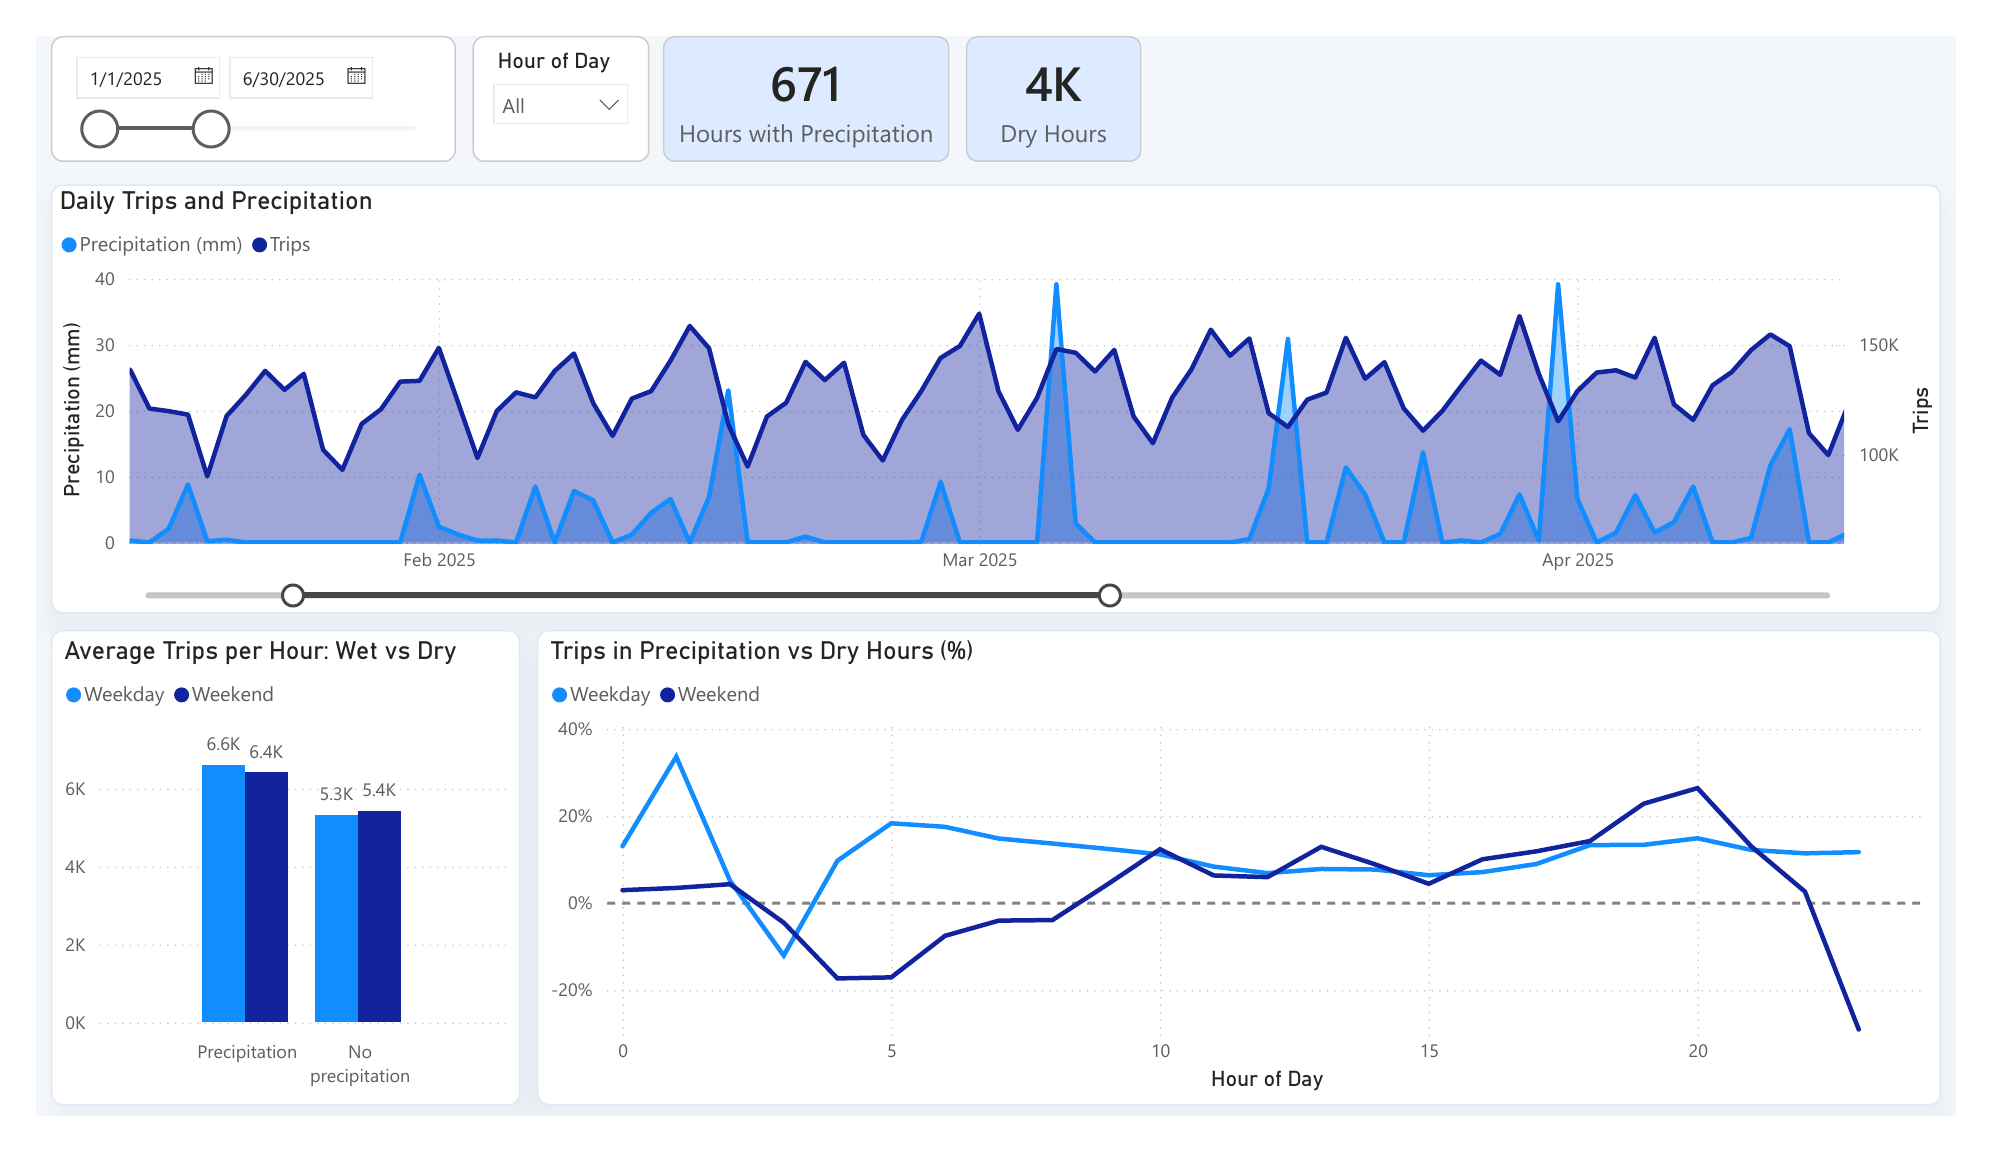

The page's visual inventory and layout, read from the dashboard file:
{"tool":"powerbi","page":{"name":"Weather & Demand","canvas":[1280,720],"ordinal":2},"visuals":[{"type":"slicer","fields":{"Values":["mart_taxi_weather_hourly.analysis_date"]},"box":[10.2,0,270.3,84.1],"z":0},{"type":"areaChart","title":"Daily Trips and Precipitation","fields":{"Category":["mart_taxi_weather_hourly.analysis_date"],"Y":["Sum(mart_taxi_weather_hourly.precipitation)"],"Y2":["Sum(mart_taxi_weather_hourly.total_trip_records)"]},"box":[10.2,99.4,1259.6,285.6],"z":1000},{"type":"slicer","fields":{"Values":["mart_taxi_weather_hourly.hour_of_day"]},"box":[290.7,0,118.6,84.1],"z":2000},{"type":"clusteredColumnChart","title":"Average Trips per Hour: Wet vs Dry","fields":{"Category":["mart_taxi_weather_hourly.Precipitation Status"],"Series":["mart_taxi_weather_hourly.Day Type"],"Y":["mart_taxi_routes_hourly.Avg Trips per Hour"]},"box":[10.2,396.5,312.4,316.2],"z":3000},{"type":"lineChart","title":"Trips in Precipitation vs Dry Hours (%)","fields":{"Category":["mart_taxi_weather_hourly.hour_of_day"],"Series":["mart_taxi_weather_hourly.Day Type"],"Y":["mart_taxi_routes_hourly.Precipitation Trip Difference %"]},"box":[334,396.5,935.8,316.2],"z":4000},{"type":"cardVisual","fields":{"Data":["mart_taxi_routes_hourly.Hours with Precipitation"]},"box":[418.2,0,191.2,84.1],"z":5000},{"type":"cardVisual","fields":{"Data":["mart_taxi_routes_hourly.Dry Hours"]},"box":[619.6,0,117.3,84.1],"z":6000}]}

Visuals, with their boxes in screenshot pixels (x1, y1, x2, y2), scaled from the page's 1280x720 canvas onto the 1992x1152 screenshot:
slicer - mart_taxi_weather_hourly.analysis_date: pyautogui.locateOnScreen(16, 0, 437, 135)
"Daily Trips and Precipitation" areaChart: pyautogui.locateOnScreen(16, 159, 1976, 616)
slicer - mart_taxi_weather_hourly.hour_of_day: pyautogui.locateOnScreen(452, 0, 637, 135)
"Average Trips per Hour: Wet vs Dry" clusteredColumnChart: pyautogui.locateOnScreen(16, 634, 502, 1140)
"Trips in Precipitation vs Dry Hours (%)" lineChart: pyautogui.locateOnScreen(520, 634, 1976, 1140)
cardVisual - mart_taxi_routes_hourly.Hours with Precipitation: pyautogui.locateOnScreen(651, 0, 948, 135)
cardVisual - mart_taxi_routes_hourly.Dry Hours: pyautogui.locateOnScreen(964, 0, 1147, 135)
